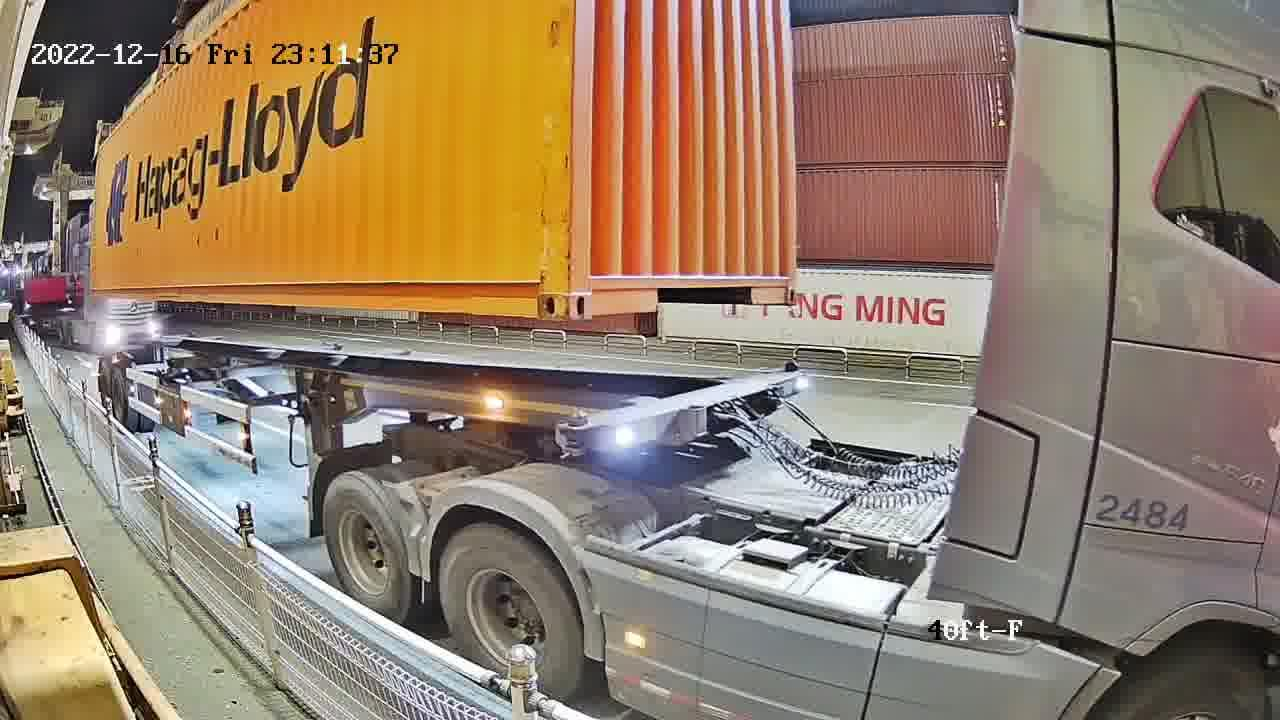Chassis: (556, 370, 806, 450)
Cone: (557, 406, 595, 461), (778, 352, 805, 374)
Hole_L: (569, 261, 620, 320)
Hole_R: (508, 262, 567, 322), (770, 260, 801, 306)
Tire: (440, 526, 581, 693), (320, 476, 407, 616)
